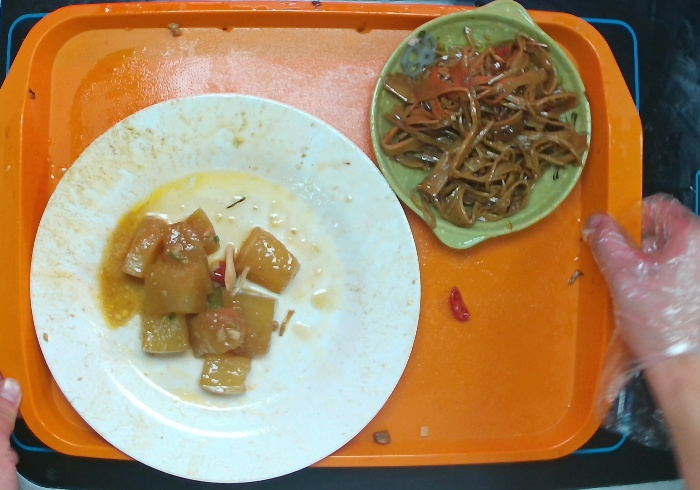NLDX-Da_Yuan_Pan: (27, 91, 421, 484)
NLDX-Lv_Hua_Shuang_Er_Die: (366, 1, 592, 250)
